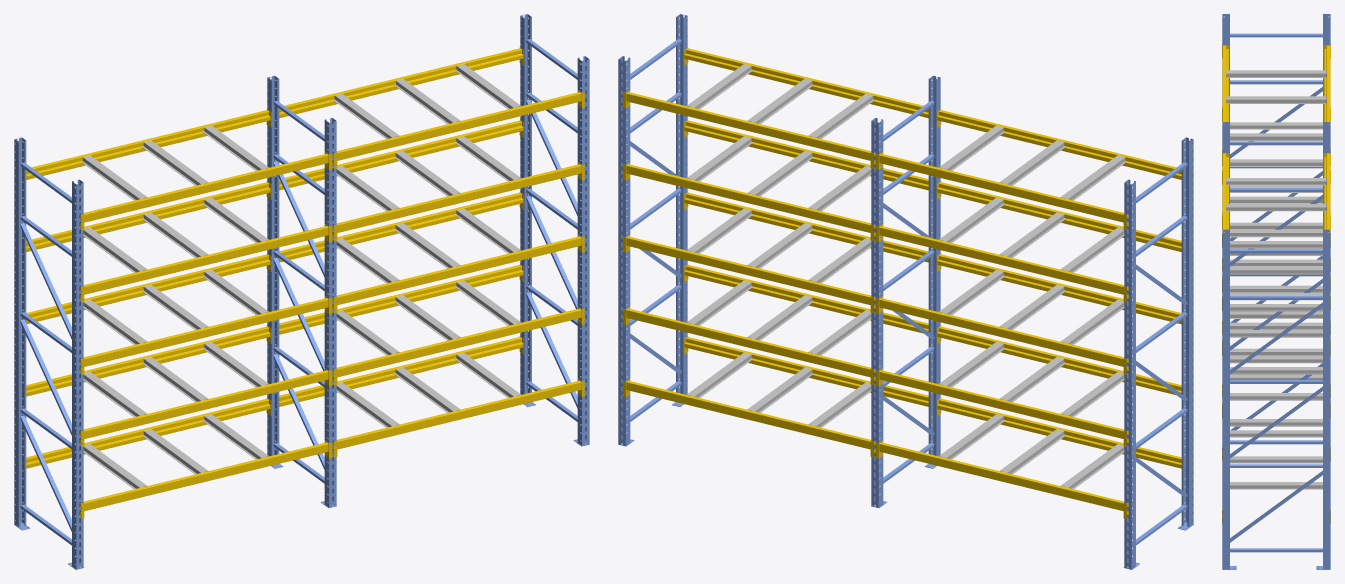
The model's file is rack+de+pallet.glb.
3 renders of one model, left to right at view 1: azimuth 30°, elevation 25°; view 2: azimuth 150°, elevation 25°; view 3: azimuth 270°, elevation 25°, orthographic. The views are drawn at different scales.
Parts seen in each view (by area): view 1: empty_93, empty_94, empty_12, empty_57, empty_60, empty_70, empty_73, empty_76, empty_67, empty_13, empty_54, empty_64 (+41 smaller); view 2: empty_93, empty_94, empty_12, empty_51, empty_39, empty_23, empty_31, empty_79, empty_4, empty_19, empty_35, empty_46 (+41 smaller); view 3: empty_12, empty_94, empty_93, empty_88, empty_3, empty_17, empty_63, empty_86, empty_7, empty_9, empty_10, empty_82 (+25 smaller).
Boxes of the visible parts, left/top/right/bottom form: empty_93: left=14, top=137, right=84, bottom=569; empty_94: left=267, top=75, right=336, bottom=507; empty_12: left=520, top=14, right=589, bottom=446; empty_57: left=332, top=162, right=585, bottom=240; empty_60: left=332, top=90, right=585, bottom=168; empty_70: left=79, top=296, right=332, bottom=374; empty_73: left=79, top=368, right=332, bottom=446; empty_76: left=79, top=440, right=332, bottom=518; empty_67: left=79, top=224, right=332, bottom=302; empty_13: left=332, top=379, right=585, bottom=457; empty_54: left=332, top=306, right=585, bottom=384; empty_64: left=79, top=152, right=332, bottom=230; empty_93: left=1123, top=137, right=1193, bottom=569; empty_94: left=871, top=75, right=940, bottom=507; empty_12: left=618, top=14, right=687, bottom=446; empty_51: left=622, top=90, right=875, bottom=168; empty_39: left=622, top=162, right=875, bottom=240; empty_23: left=875, top=440, right=1128, bottom=518; empty_31: left=875, top=368, right=1128, bottom=446; empty_79: left=875, top=152, right=1128, bottom=230; empty_4: left=622, top=306, right=875, bottom=384; empty_19: left=622, top=379, right=875, bottom=457; empty_35: left=875, top=296, right=1128, bottom=374; empty_46: left=622, top=234, right=875, bottom=312; empty_12: left=1222, top=229, right=1330, bottom=569; empty_94: left=1222, top=122, right=1330, bottom=444; empty_93: left=1222, top=14, right=1330, bottom=322; empty_88: left=1230, top=229, right=1322, bottom=237; empty_3: left=1226, top=178, right=1326, bottom=185; empty_17: left=1226, top=204, right=1326, bottom=211; empty_63: left=1226, top=96, right=1326, bottom=103; empty_86: left=1226, top=70, right=1326, bottom=77; empty_7: left=1230, top=122, right=1322, bottom=129; empty_9: left=1230, top=159, right=1322, bottom=166; empty_10: left=1230, top=133, right=1322, bottom=140; empty_82: left=1230, top=241, right=1322, bottom=248.
Bounding box in the file's own units: 5.11 × 3.66 × 1.07.
Materials: 4 (1 with a texture image).
